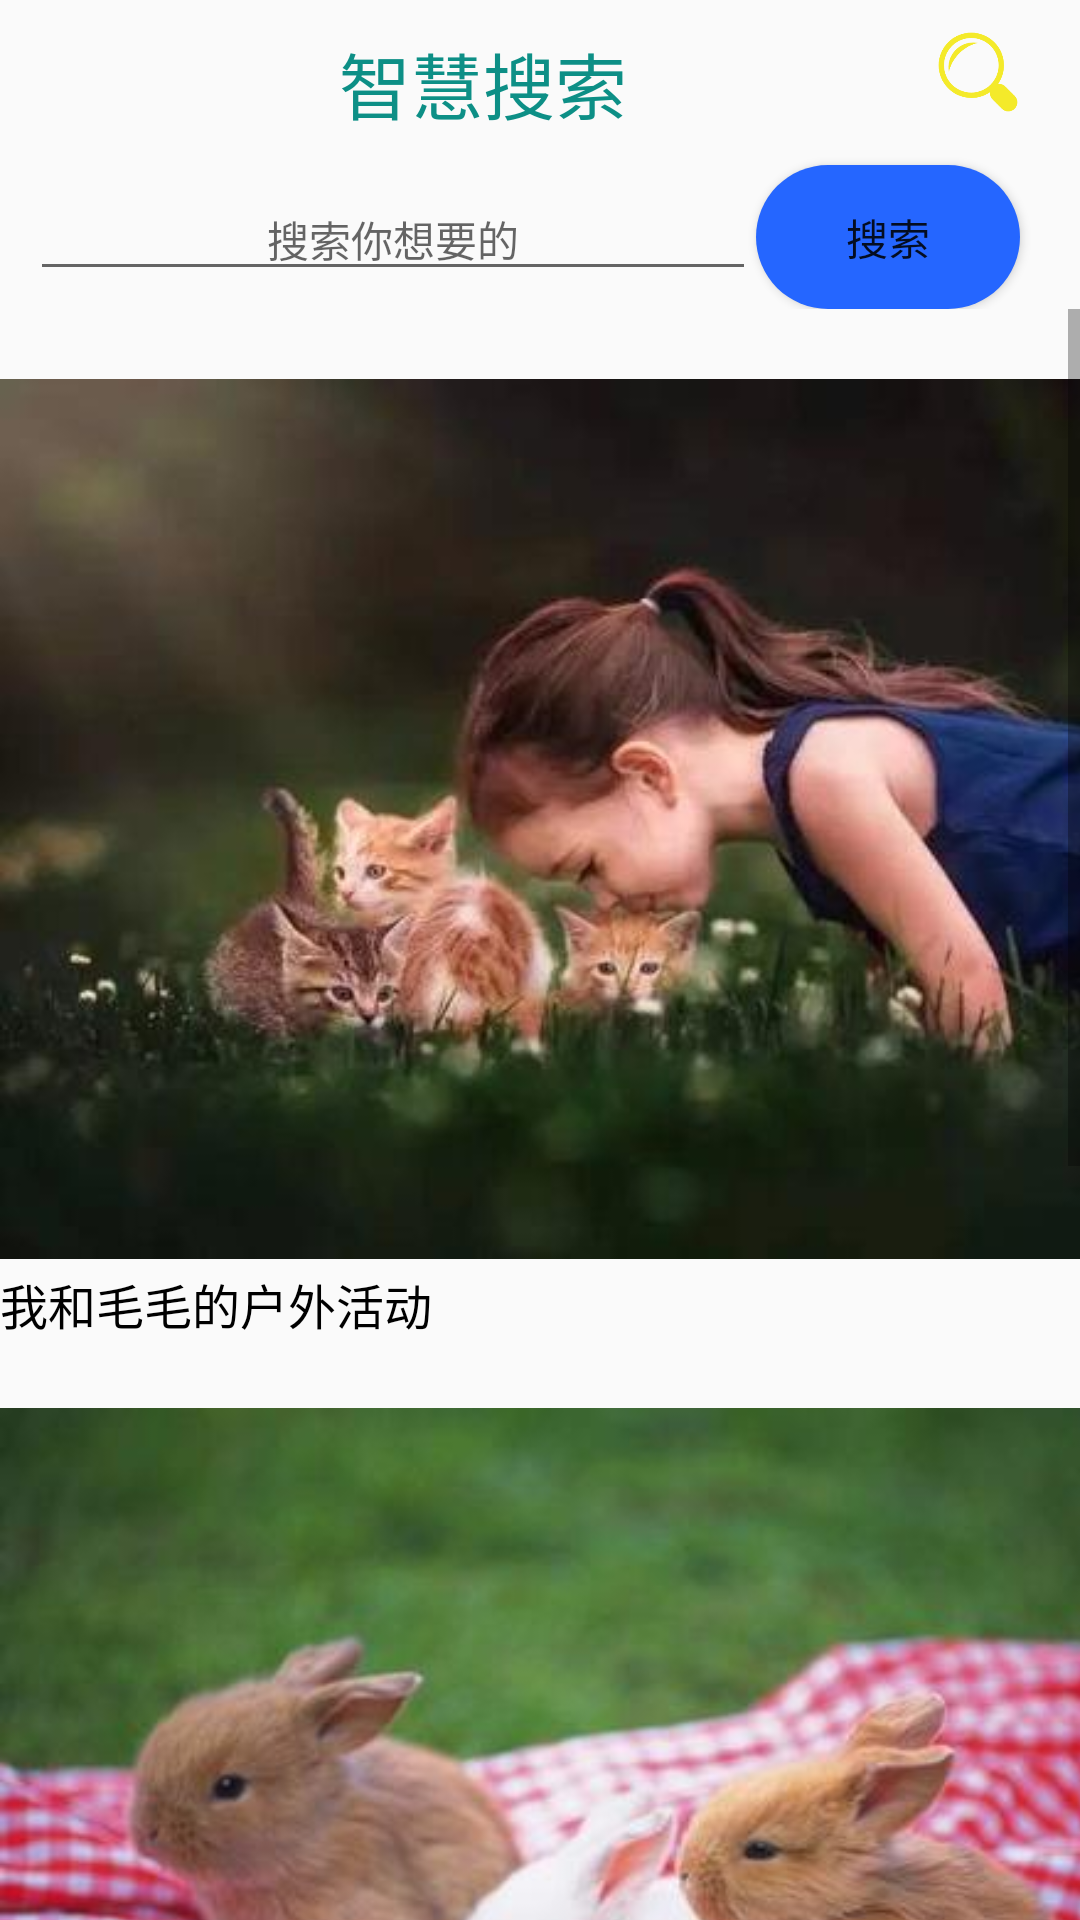

Where icons sit on this 1080 × 1920 app screen, as region(x1, y1, x2, y2):
search: region(938, 32, 1018, 112)
